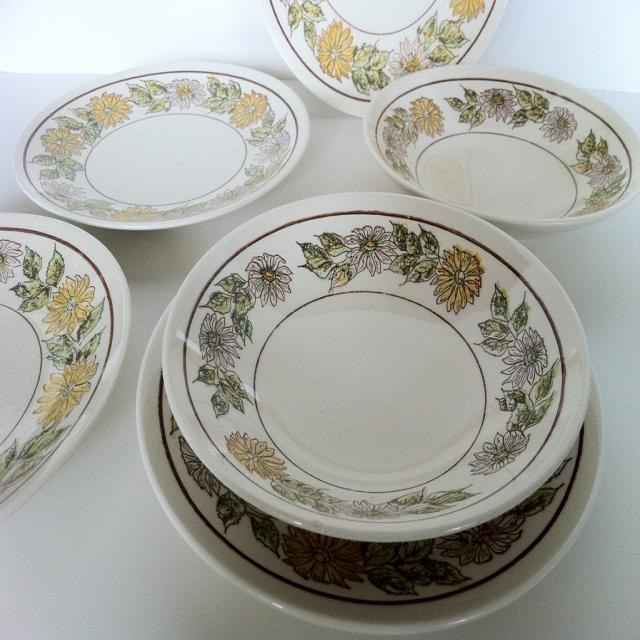non-organic waste: (144, 184, 620, 631), (355, 50, 640, 251), (15, 70, 306, 244)
